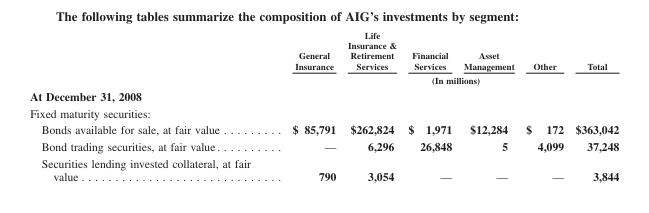table: (29, 29, 618, 182)
table column: (29, 29, 270, 182), (270, 29, 341, 182), (457, 29, 519, 182), (341, 29, 401, 182), (401, 29, 457, 182), (568, 29, 618, 182), (519, 29, 568, 182)
table column header: (29, 29, 618, 86)
table projected row header: (29, 86, 618, 104), (29, 104, 618, 120)
table row: (29, 29, 618, 72), (29, 154, 618, 182), (29, 86, 618, 104), (29, 120, 618, 137), (29, 137, 618, 154), (29, 104, 618, 120), (29, 72, 618, 86)
table spanning cell: (270, 72, 618, 86)
